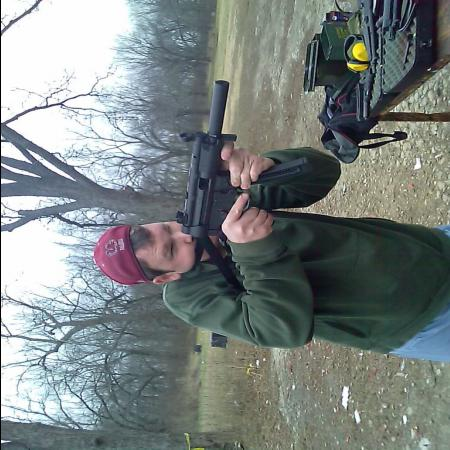Pistol: (173, 82, 261, 238)
